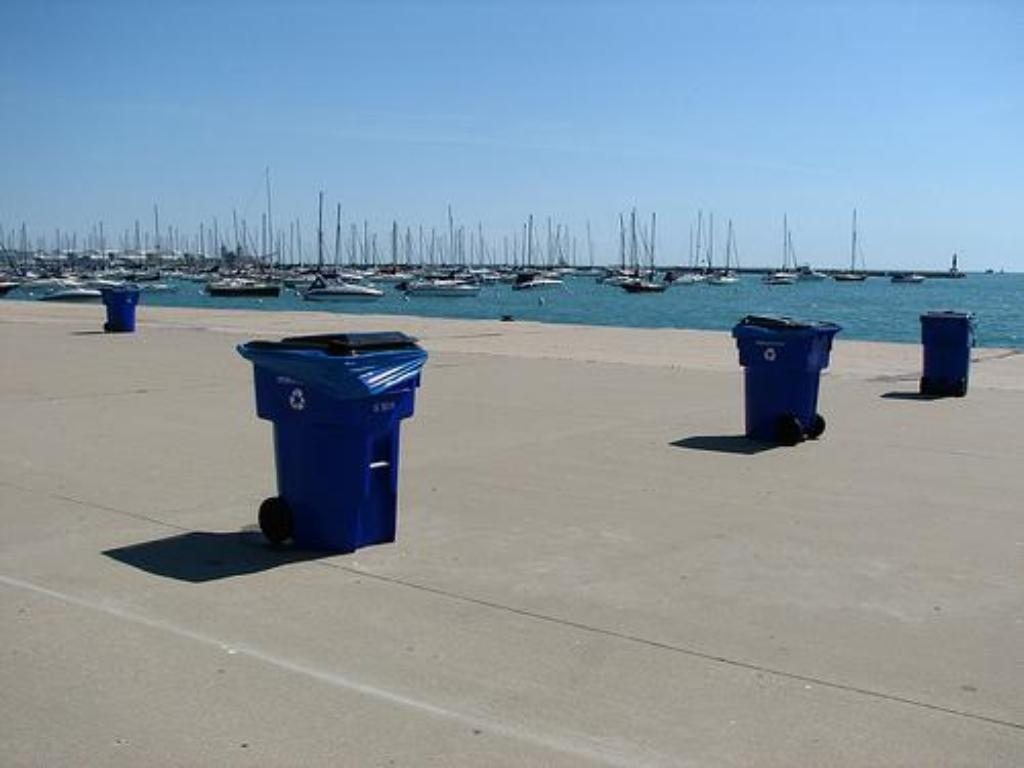dustbin: (240, 326, 434, 571), (724, 305, 851, 458), (906, 305, 988, 405), (87, 270, 158, 348)
